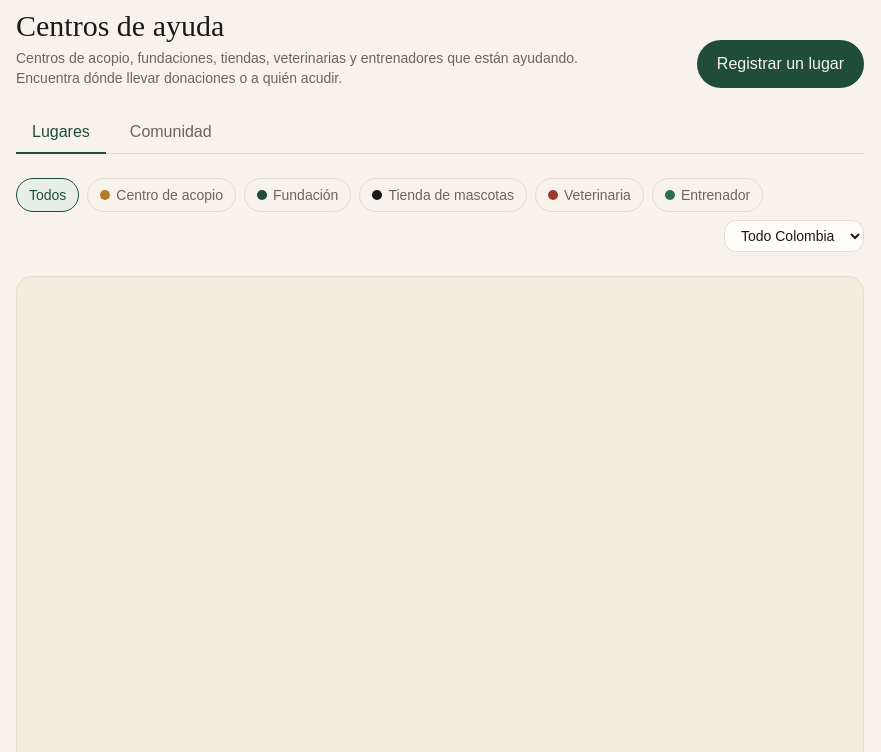
Scenario: RedDeApoyo — Comunidad (feature 42) › sin cuenta, el aviso del usuario demo no ofrece resolver ni eliminar
Click the button "Comunidad" at (171, 133), box 114,112 -> 228,154
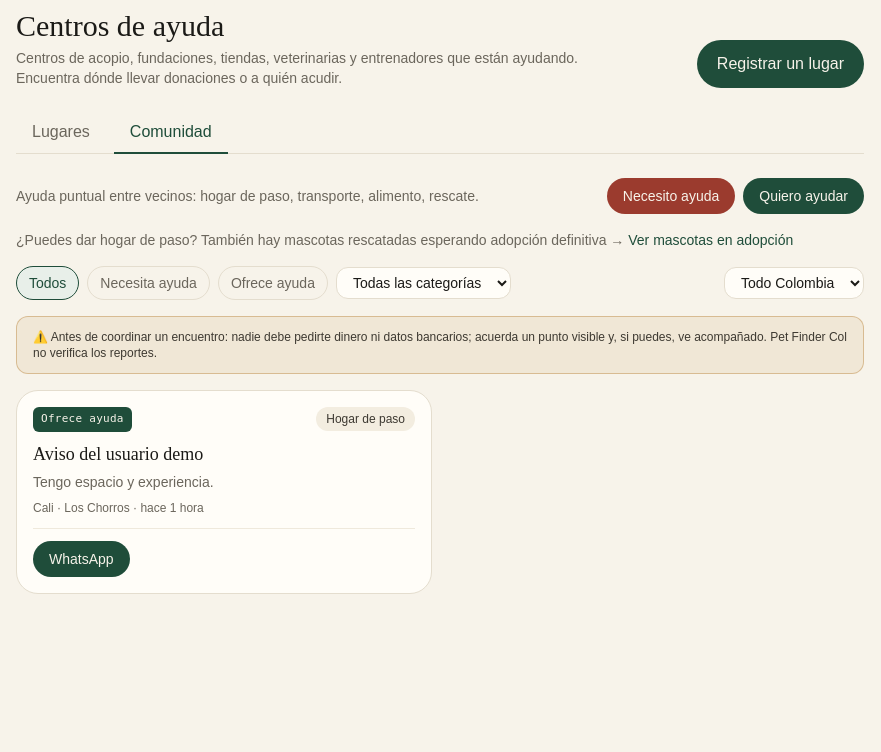
Now the heading "Aviso del usuario demo" is shown, box 33,444 -> 203,464
Now the link "WhatsApp" is shown, box 33,540 -> 130,576
